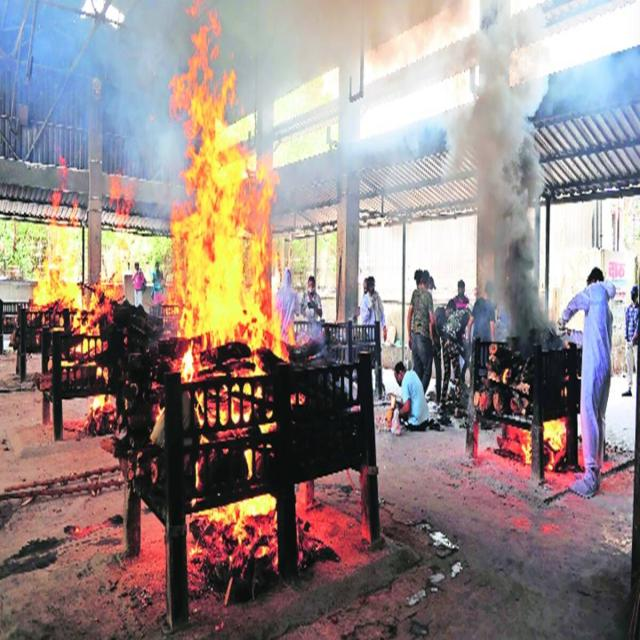fire: (174, 120, 280, 353)
smoke: (352, 6, 532, 162)
